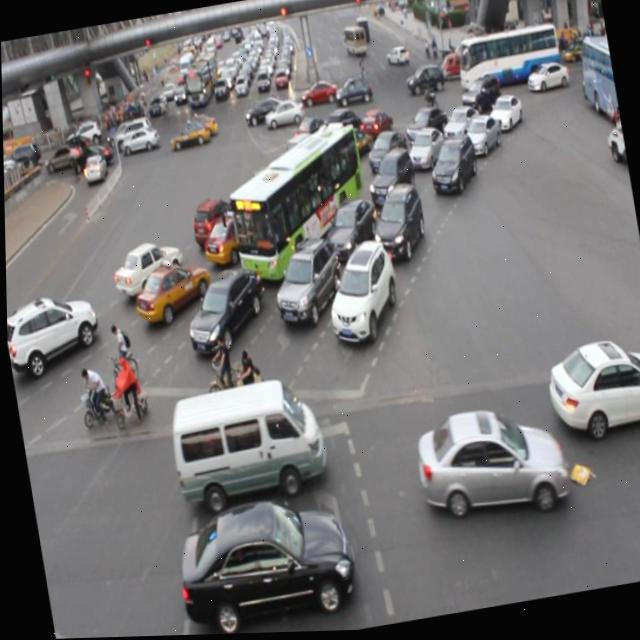car: (169, 488, 356, 636), (407, 397, 568, 529), (539, 334, 640, 444), (318, 238, 401, 349), (5, 286, 102, 372), (180, 269, 266, 350), (267, 236, 342, 328), (129, 259, 212, 323), (109, 236, 187, 299), (366, 183, 427, 263), (319, 197, 381, 263), (199, 211, 264, 268), (424, 135, 477, 199), (363, 148, 415, 206), (187, 195, 242, 247), (240, 165, 294, 216), (297, 151, 351, 199), (258, 184, 310, 231), (402, 107, 450, 155), (363, 130, 408, 178), (403, 128, 445, 176), (460, 116, 501, 162), (457, 79, 501, 120), (440, 106, 481, 149), (321, 107, 361, 147), (484, 95, 522, 137), (332, 126, 373, 164), (357, 109, 394, 144), (291, 116, 327, 147)
truck: (163, 375, 327, 508), (275, 132, 328, 182)
van: (220, 126, 374, 287)
